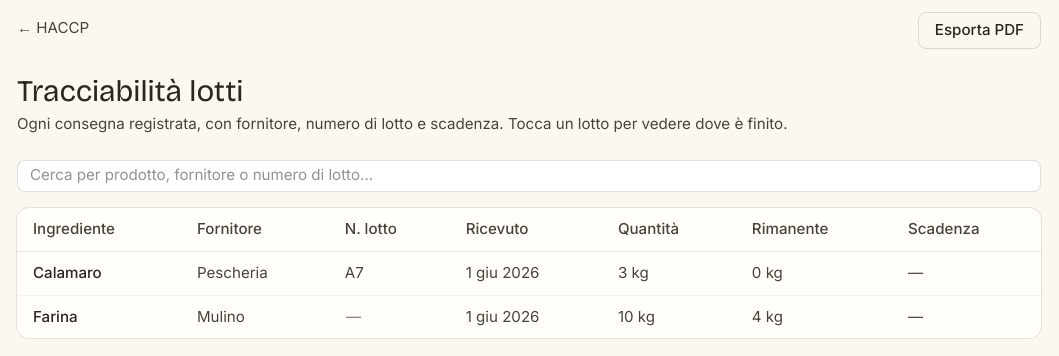
Test: cercare un lotto › scrivendo, l'elenco si restringe; e se non c'è niente, lo dice
This screenshot has width=1059, height=356.
Type "calamaro" into the search field named "Cerca fra i lotti" at coordinates (529, 176), box [17,160,1041,192]
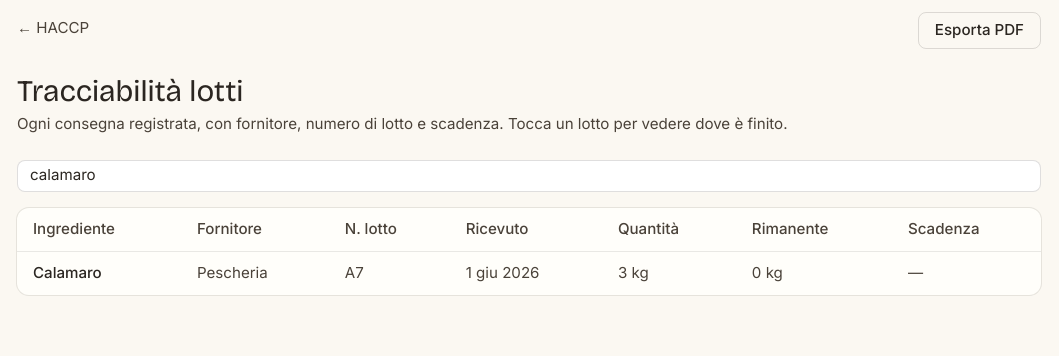
Expected: no buttons "Farina" are shown
Replace the text in the search field named "Cerca fra i lotti" with "orata" at coordinates (529, 176), box [17,160,1041,192]
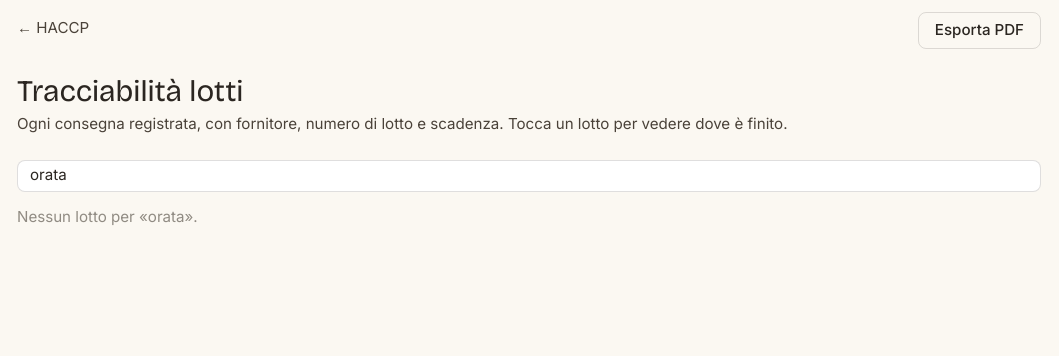
Expected: the text "Nessun lotto per «orata»." is shown, [17,207,198,226]
